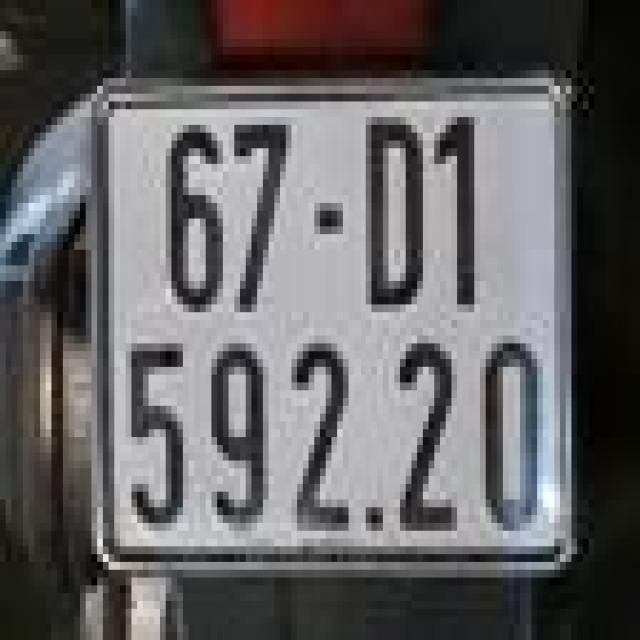0: (480, 324, 554, 535)
1: (434, 101, 497, 320)
2: (283, 328, 363, 554), (394, 332, 474, 550)
5: (114, 316, 194, 550)
6: (154, 105, 234, 308)
7: (228, 109, 303, 328)
9: (203, 313, 283, 546)
D: (352, 105, 432, 332)
